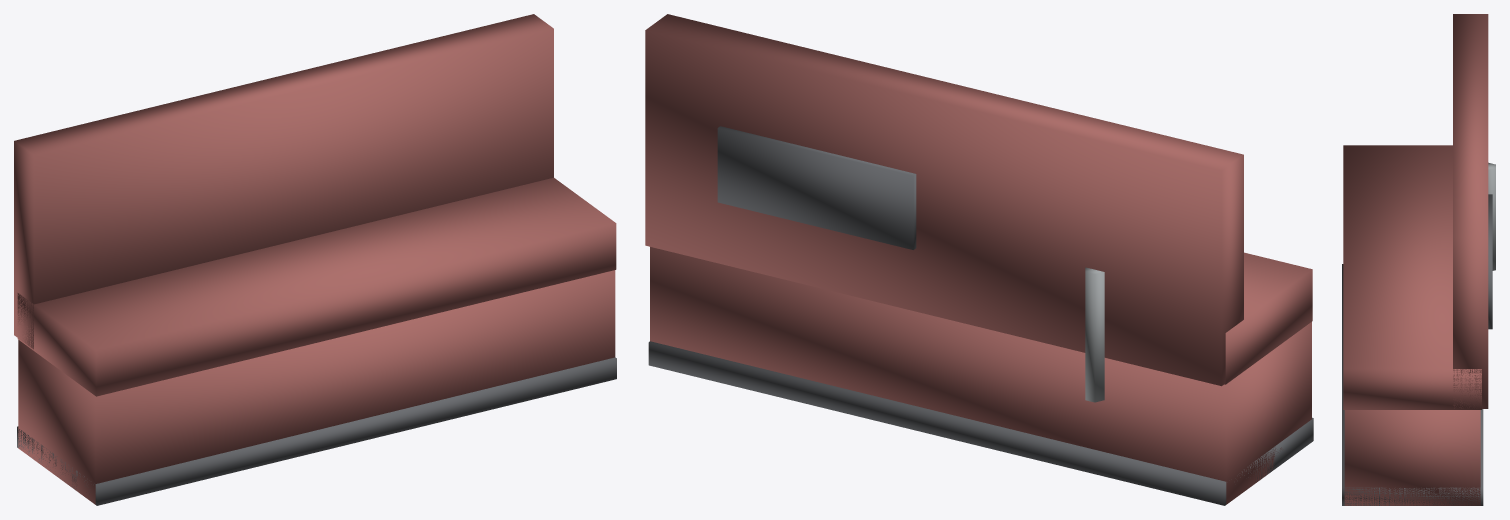
The model's file is diner_booth_double__service.glb.
3 renders of one model, left to right at view 1: azimuth 30°, elevation 25°; view 2: azimuth 150°, elevation 25°; view 3: azimuth 270°, elevation 25°, orthographic. The views are drawn at different scales.
Visible parts, largest first — view 1: world; view 2: world; view 3: world.
Part boxes in pixels (x1=…): world: x1=14, y1=14, x2=616, y2=505; world: x1=645, y1=14, x2=1313, y2=505; world: x1=1342, y1=14, x2=1495, y2=505.
Size of the model in its own units: 2.1 by 1.17 by 0.6103.
